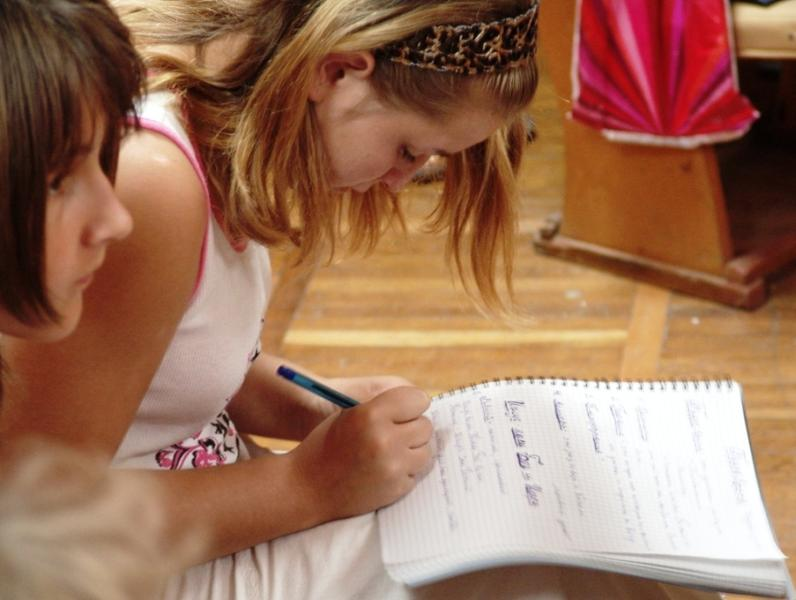person: (5, 1, 681, 600)
